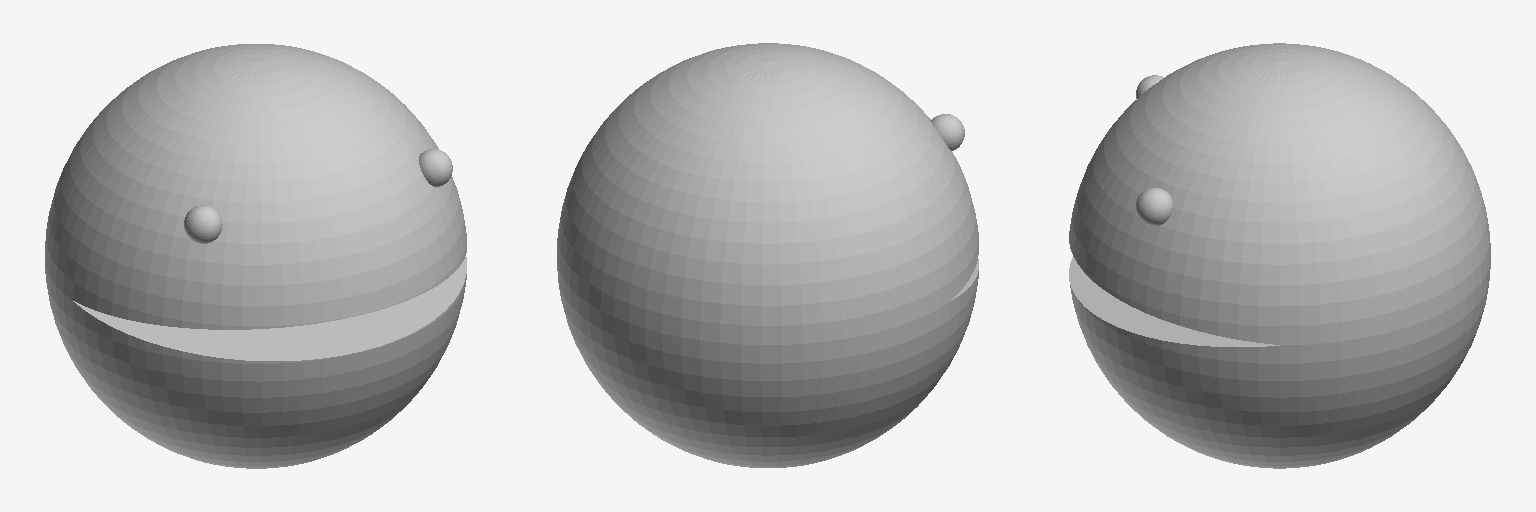
Rendered from pacman0013.obj.
3 views of the same model, side by side, from view 1: azimuth 30°, elevation 25°; view 2: azimuth 150°, elevation 25°; view 3: azimuth 270°, elevation 25° (orthographic).
Visible parts, largest first — view 1: Body, Eyes; view 2: Body, Eyes; view 3: Body, Eyes.
Boxes of the visible parts, x1=… form: Body: x1=45, y1=44, x2=466, y2=468; Eyes: x1=184, y1=149, x2=452, y2=243; Body: x1=557, y1=43, x2=978, y2=467; Eyes: x1=931, y1=114, x2=964, y2=150; Body: x1=1069, y1=43, x2=1490, y2=468; Eyes: x1=1136, y1=75, x2=1172, y2=225.
Bounding box in the file's own units: 6.6 × 6.67 × 6.59.